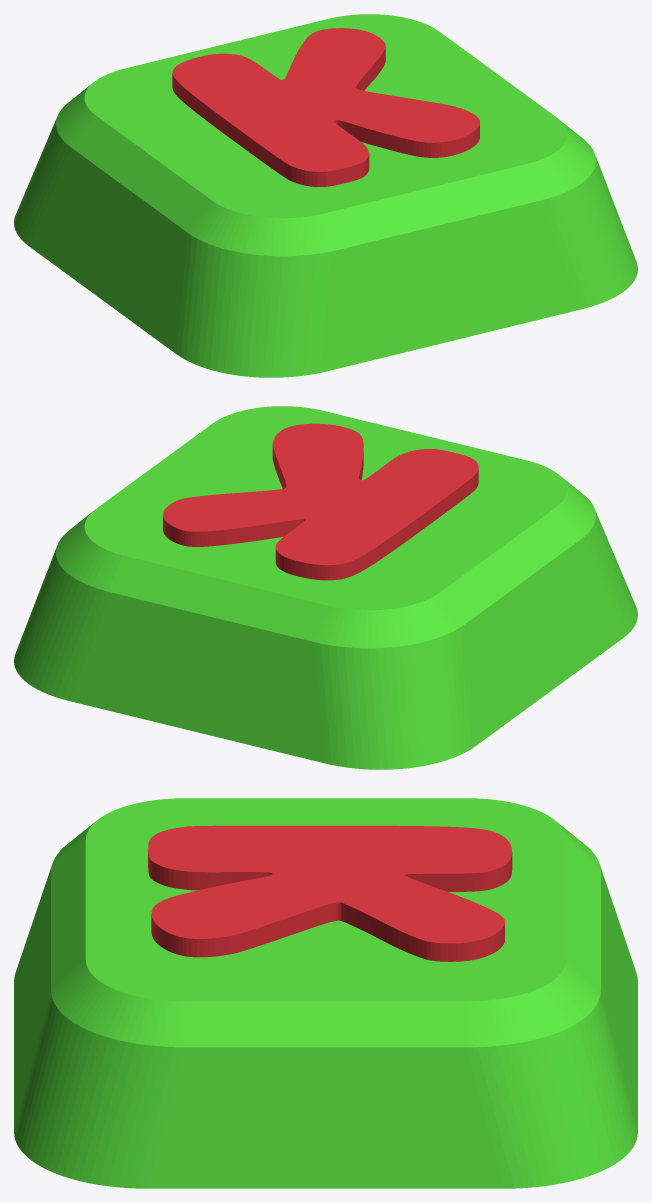
3 views of the same model, one above another, from view 1: azimuth 30°, elevation 25°; view 2: azimuth 150°, elevation 25°; view 3: azimuth 270°, elevation 25° (orthographic). The views are drawn at different scales.
Parts seen in each view (by area): view 1: CAPS_K, FONT_K; view 2: CAPS_K, FONT_K; view 3: CAPS_K, FONT_K.
Part boxes in pixels (bbox=[...]): CAPS_K: bbox=[14, 14, 637, 377]; FONT_K: bbox=[172, 28, 479, 186]; CAPS_K: bbox=[14, 406, 637, 769]; FONT_K: bbox=[163, 423, 478, 580]; CAPS_K: bbox=[14, 798, 637, 1188]; FONT_K: bbox=[148, 825, 512, 961].
Size of the model in its own units: 18 by 5.59 by 18.
